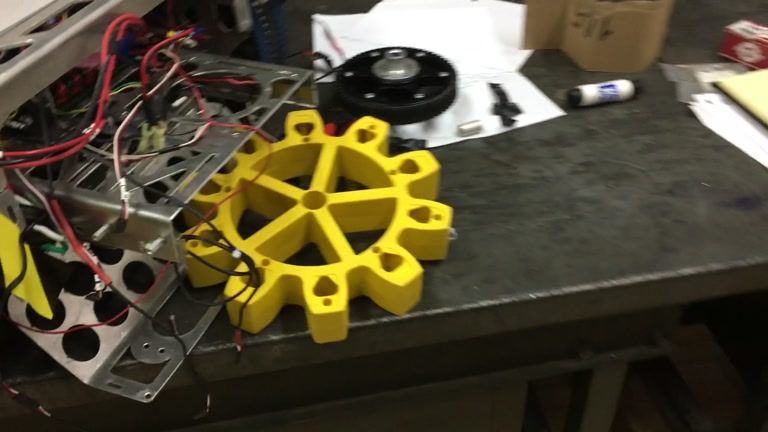gear: (174, 109, 454, 344)
